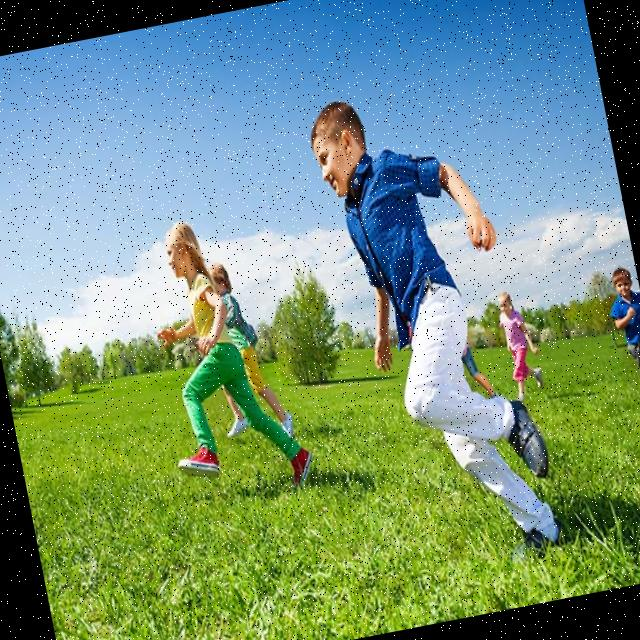Person: (304, 72, 566, 576), (132, 204, 317, 505), (194, 258, 296, 450), (494, 288, 546, 402), (603, 264, 640, 410)
